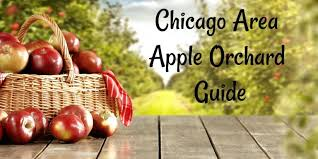apple: (26, 46, 69, 76), (56, 104, 95, 135), (87, 106, 123, 137), (49, 113, 87, 141), (8, 110, 39, 143), (1, 44, 27, 76), (49, 29, 84, 50), (77, 52, 104, 76)
